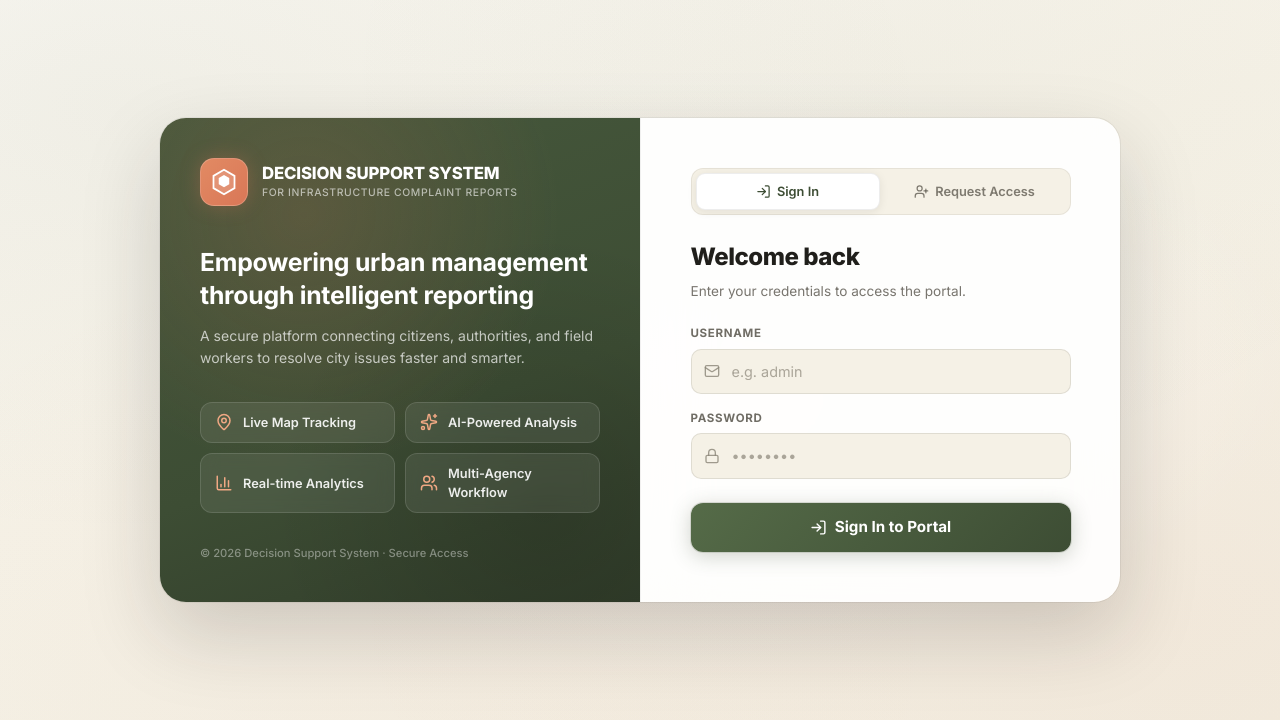
Test: Decision Support System - E2E Test Suite › Authentication Flow › shows error validation when submitting empty login fields
Click the submit button: point(881, 528) left=691, top=503, right=1071, bottom=552
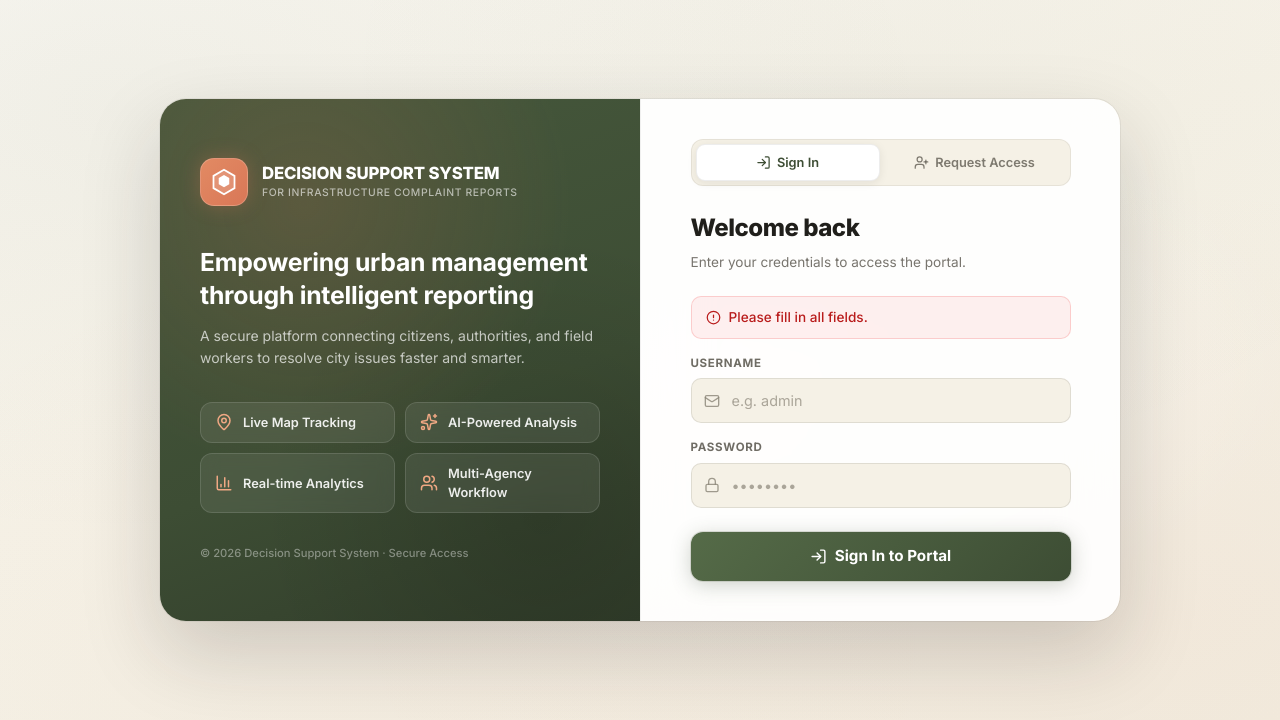
Expected: the text "Please fill in all fields." is shown, left=690, top=296, right=1070, bottom=338
